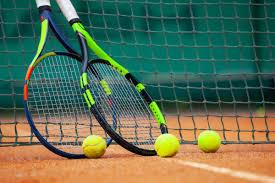tennis ball: (82, 135, 106, 158), (155, 134, 179, 156), (198, 130, 221, 152)
tennis racket: (57, 0, 168, 155), (25, 0, 111, 158)
